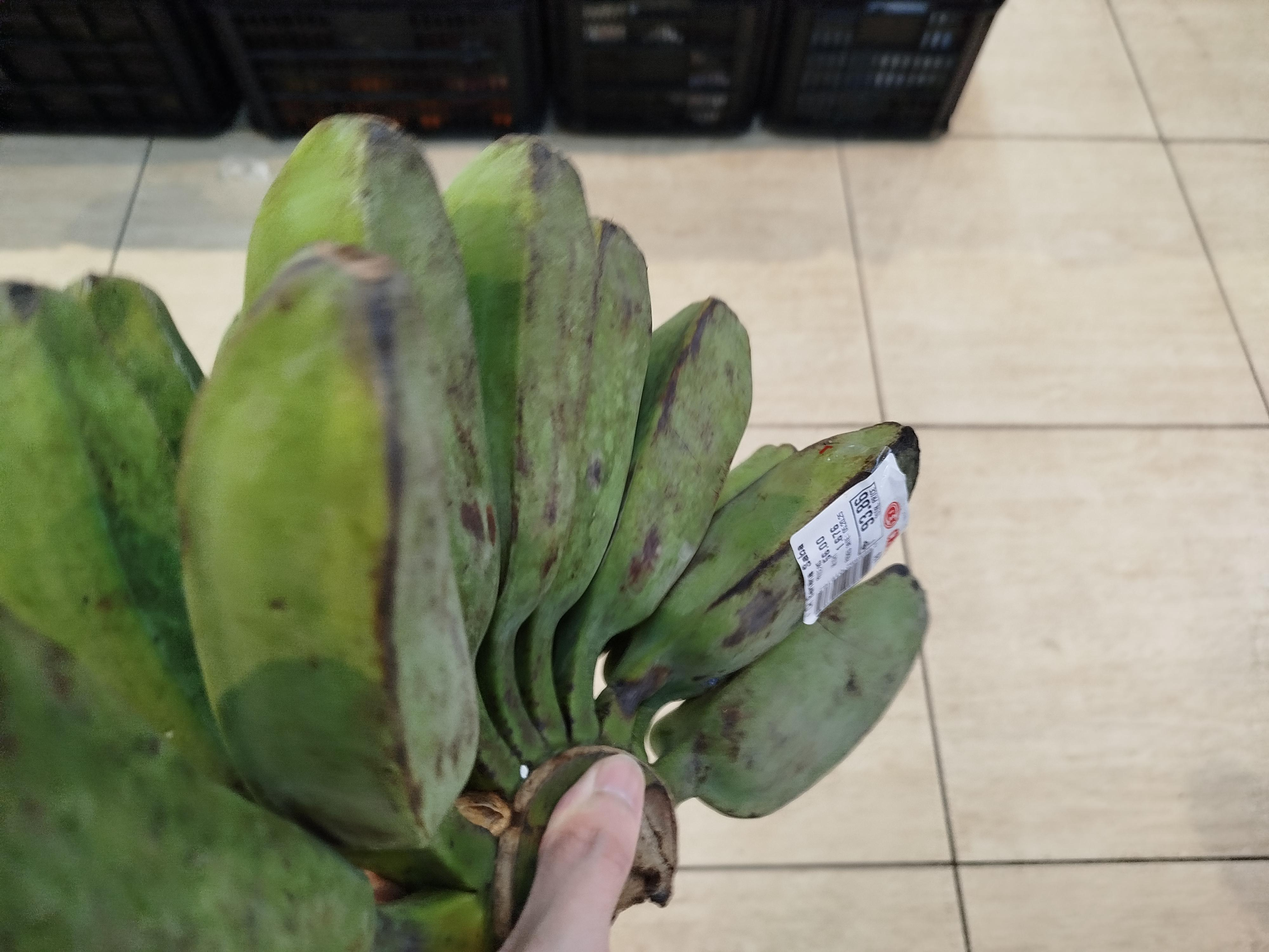underripe: (0, 117, 928, 952)
